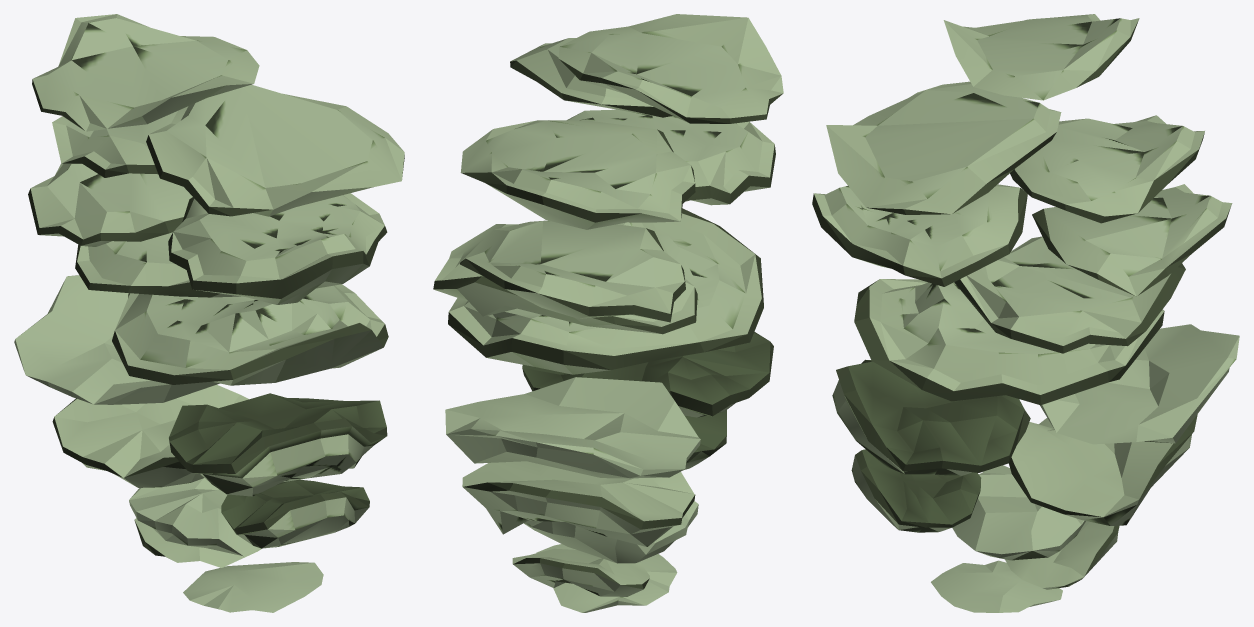
Rendered from EA_Swamp_Fungus_03b.glb.
3 renders of one model, left to right at view 1: azimuth 30°, elevation 25°; view 2: azimuth 150°, elevation 25°; view 3: azimuth 270°, elevation 25°, orthographic. The views are drawn at different scales.
Visible parts, largest first — view 1: EA_Swamp_Fungus_03b; view 2: EA_Swamp_Fungus_03b; view 3: EA_Swamp_Fungus_03b.
Part boxes in pixels (x1,y1,x2,y2): EA_Swamp_Fungus_03b: [14, 14, 404, 612]; EA_Swamp_Fungus_03b: [433, 14, 783, 612]; EA_Swamp_Fungus_03b: [812, 14, 1239, 612].
Size of the model in its own units: 0.5393 by 0.9583 by 0.6932.
Materials: 1 (1 with a texture image).
